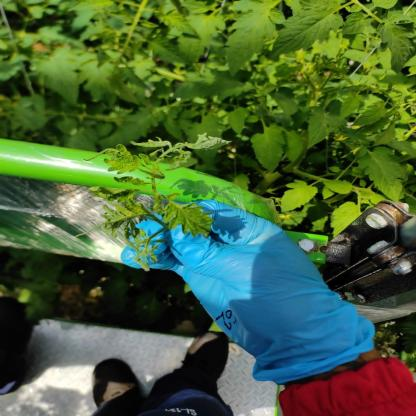T_L_R: (161, 201, 214, 237), (88, 146, 142, 175)
